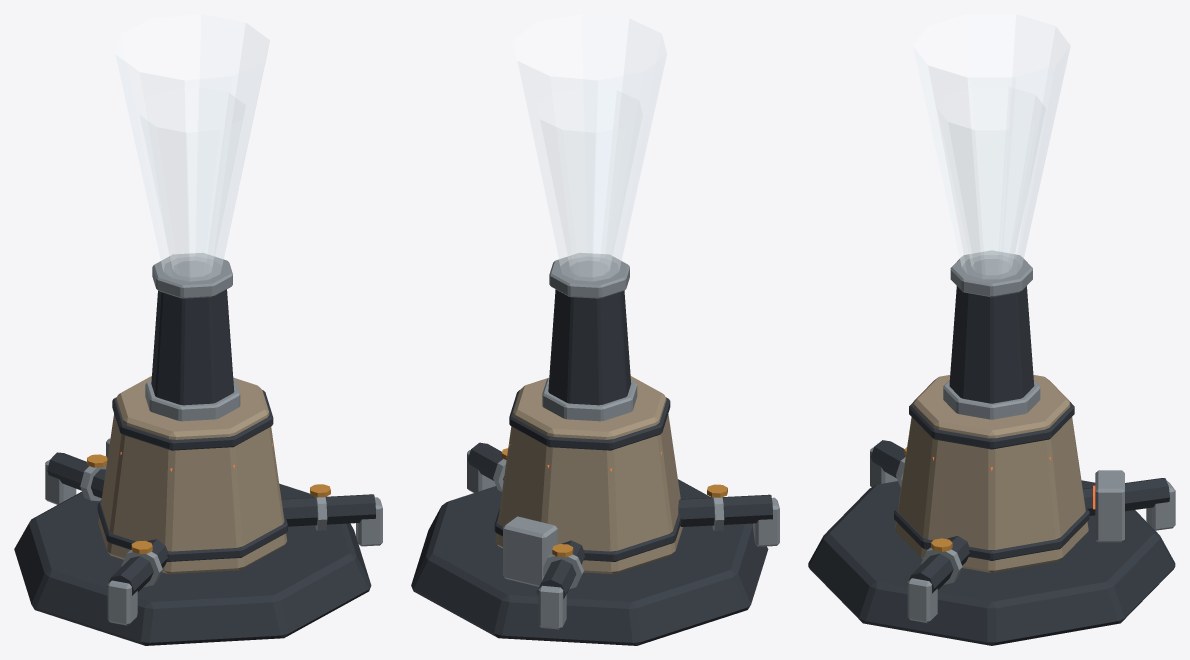
The model's file is exo-geothermal.glb.
3 views of the same model, side by side, from view 1: azimuth 30°, elevation 25°; view 2: azimuth 150°, elevation 25°; view 3: azimuth 270°, elevation 25° (orthographic).
Parts seen in each view (by area): view 1: body, plume; view 2: body, plume; view 3: body, plume.
Boxes of the visible parts, x1,y1,x2,y2 form: body: [14, 253, 382, 645]; plume: [115, 14, 269, 280]; body: [411, 253, 779, 645]; plume: [513, 14, 666, 280]; body: [808, 250, 1175, 645]; plume: [913, 14, 1070, 278].
Size of the model in its own units: 7.43 by 11.7 by 7.44.
